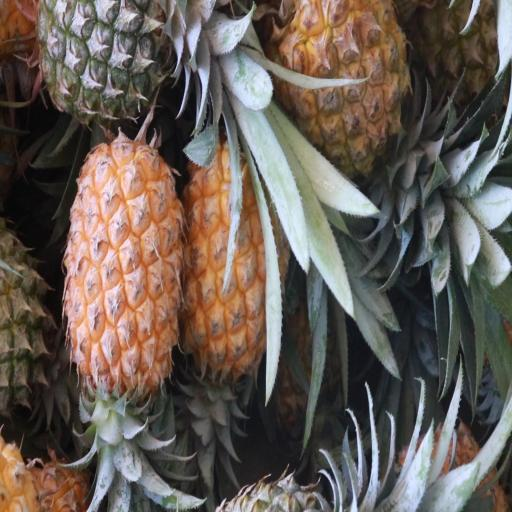Pineapple - v8 v1: (60, 140, 182, 384), (182, 144, 287, 368), (276, 0, 409, 160)
